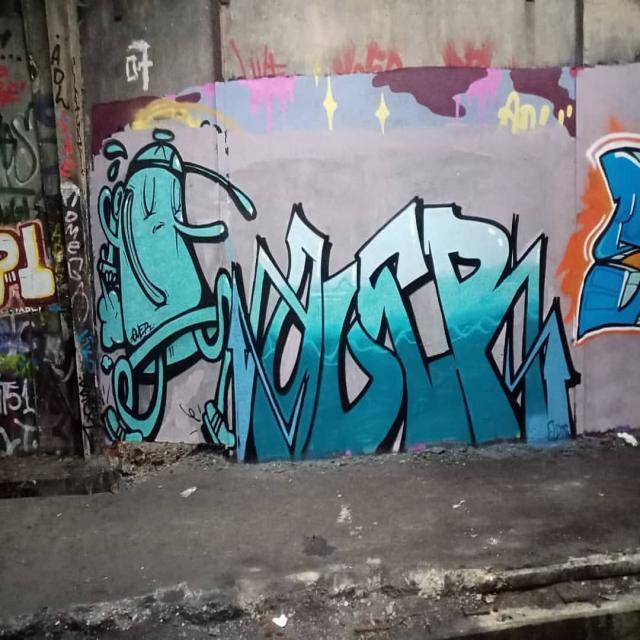-: (233, 203, 577, 464), (104, 132, 228, 464), (56, 181, 106, 468)
